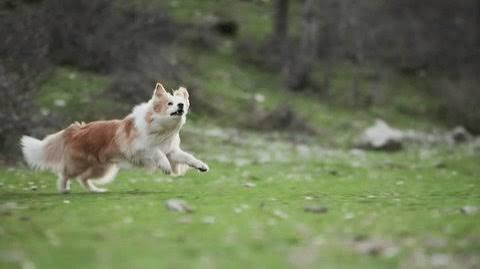adult_dog: (19, 82, 211, 198)
